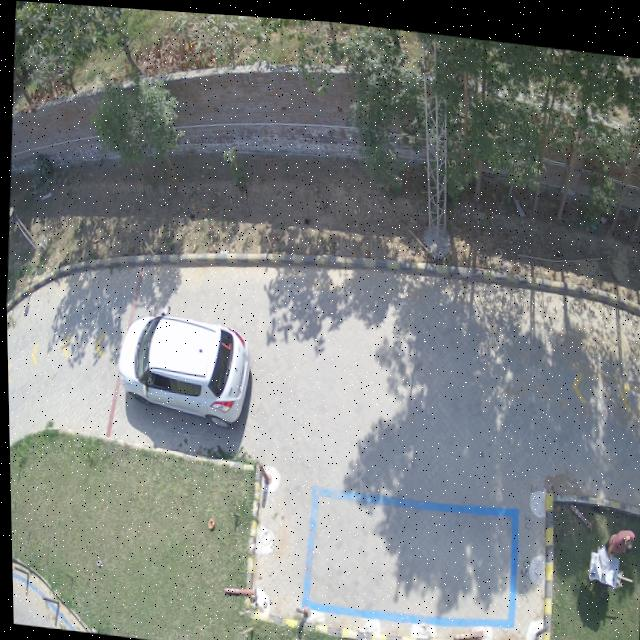car: (116, 305, 249, 424)
